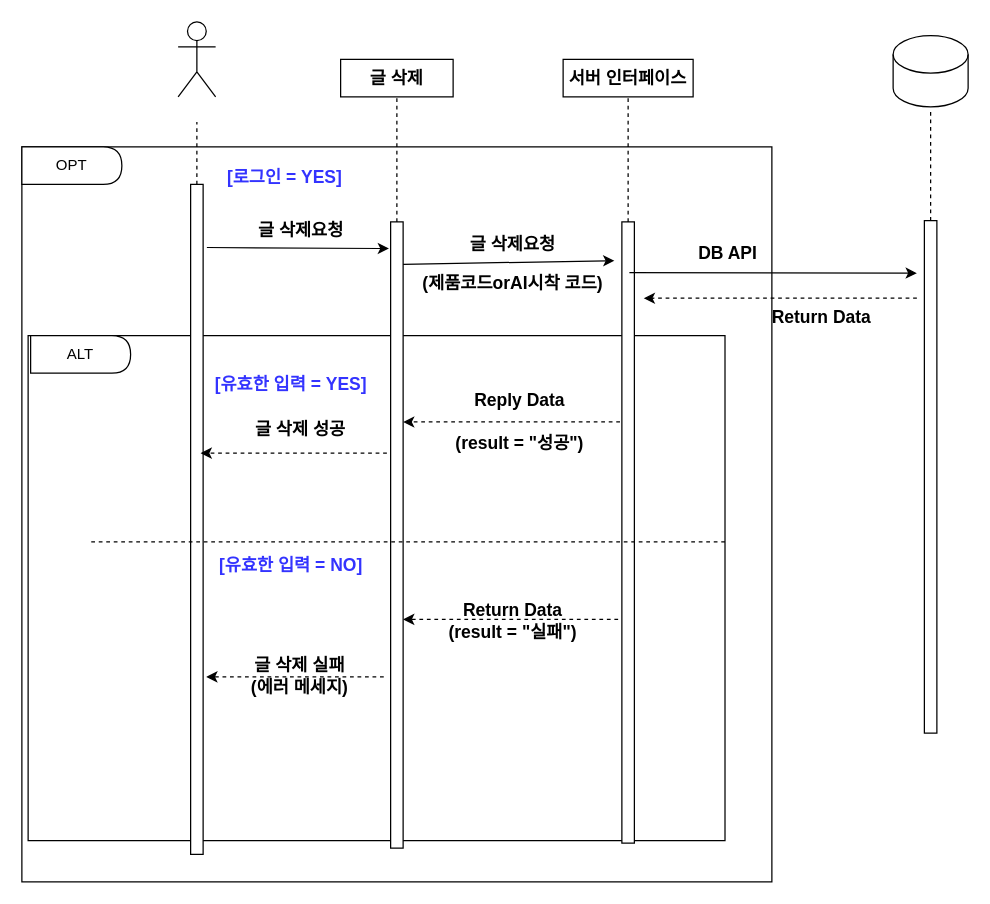
Some shapes in this 990 by 904 pixel diagram are drawn without their labels. Here are the shapes that lost their labels. From the top down, the box of each, then its label:
(177, 21, 216, 97): 구매자
(892, 34, 968, 107): Server DB
